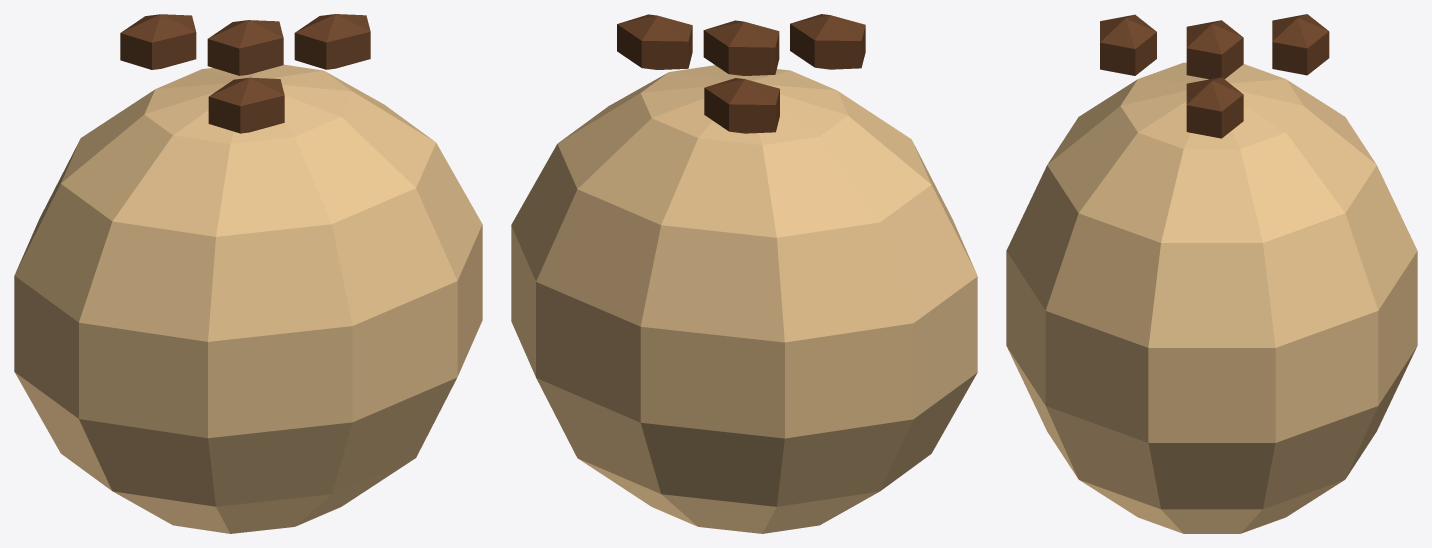
The model's file is good_coffee_beans.glb.
3 renders of one model, left to right at view 1: azimuth 30°, elevation 25°; view 2: azimuth 150°, elevation 25°; view 3: azimuth 270°, elevation 25°, orthographic.
Visible parts, largest first — view 1: good_coffee_beans; view 2: good_coffee_beans; view 3: good_coffee_beans.
Boxes of the visible parts, x1=… form: good_coffee_beans: x1=14, y1=14, x2=482, y2=533; good_coffee_beans: x1=511, y1=14, x2=977, y2=533; good_coffee_beans: x1=1006, y1=14, x2=1417, y2=533.
Size of the model in its own units: 0.2782 by 0.3255 by 0.2486.
